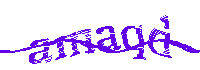a: (95, 24, 122, 53), (29, 37, 51, 64)
d: (148, 13, 174, 60)
m: (53, 28, 94, 58)
q: (122, 24, 147, 62)
